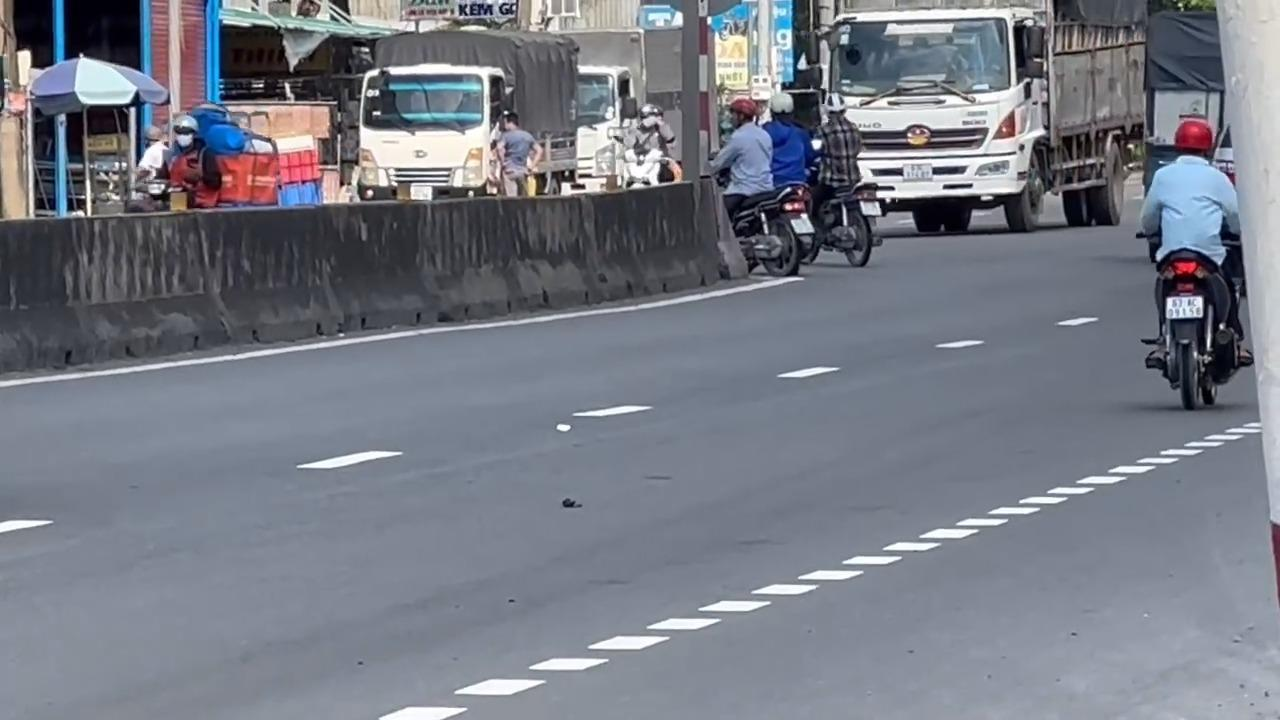bien_so: (1164, 294, 1204, 319), (901, 161, 933, 181)
